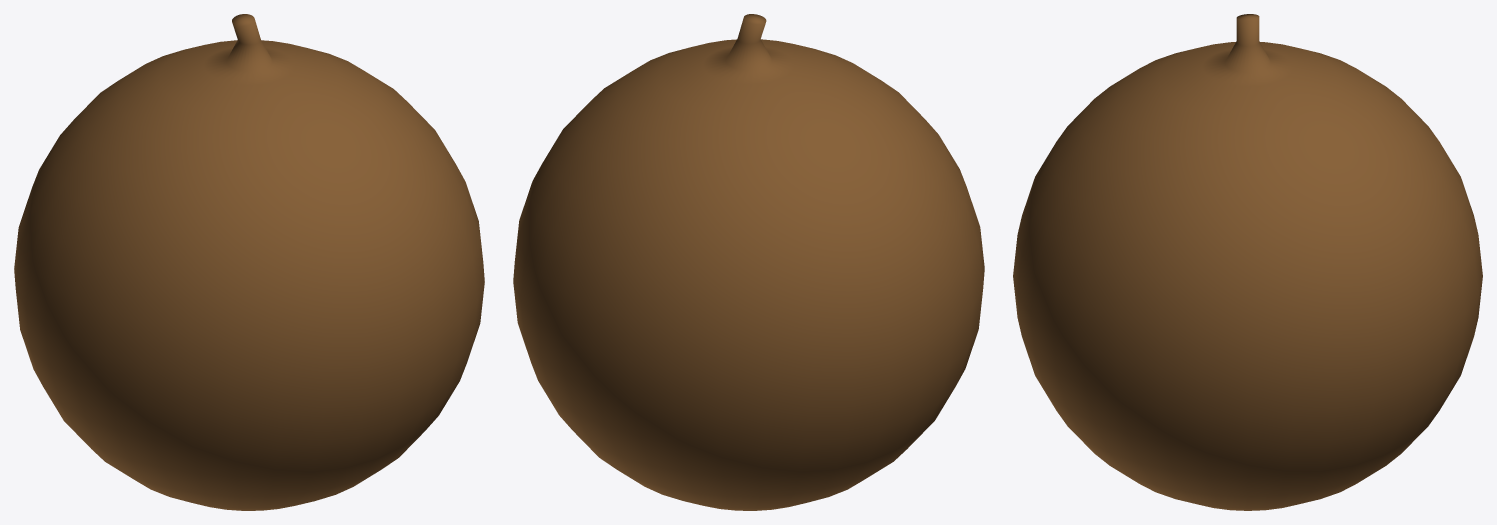
File: Fruit_Coconut.fbx
3 renders of one model, left to right at view 1: azimuth 30°, elevation 25°; view 2: azimuth 150°, elevation 25°; view 3: azimuth 270°, elevation 25°, orthographic.
Parts seen in each view (by area): view 1: Coconut; view 2: Coconut; view 3: Coconut.
Part boxes in pixels (bbox=[...]): Coconut: bbox=[14, 14, 484, 510]; Coconut: bbox=[513, 14, 984, 510]; Coconut: bbox=[1013, 14, 1482, 510].
Bounding box in the file's own units: 200 × 221 × 200.
